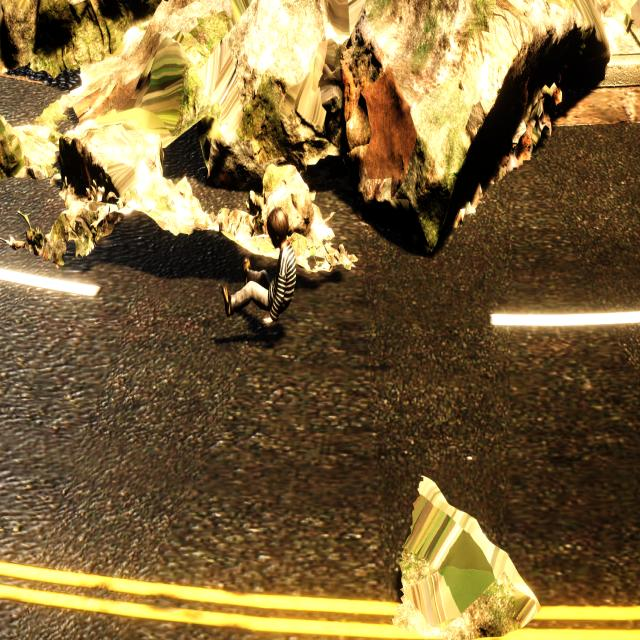Human: (222, 204, 300, 340)
